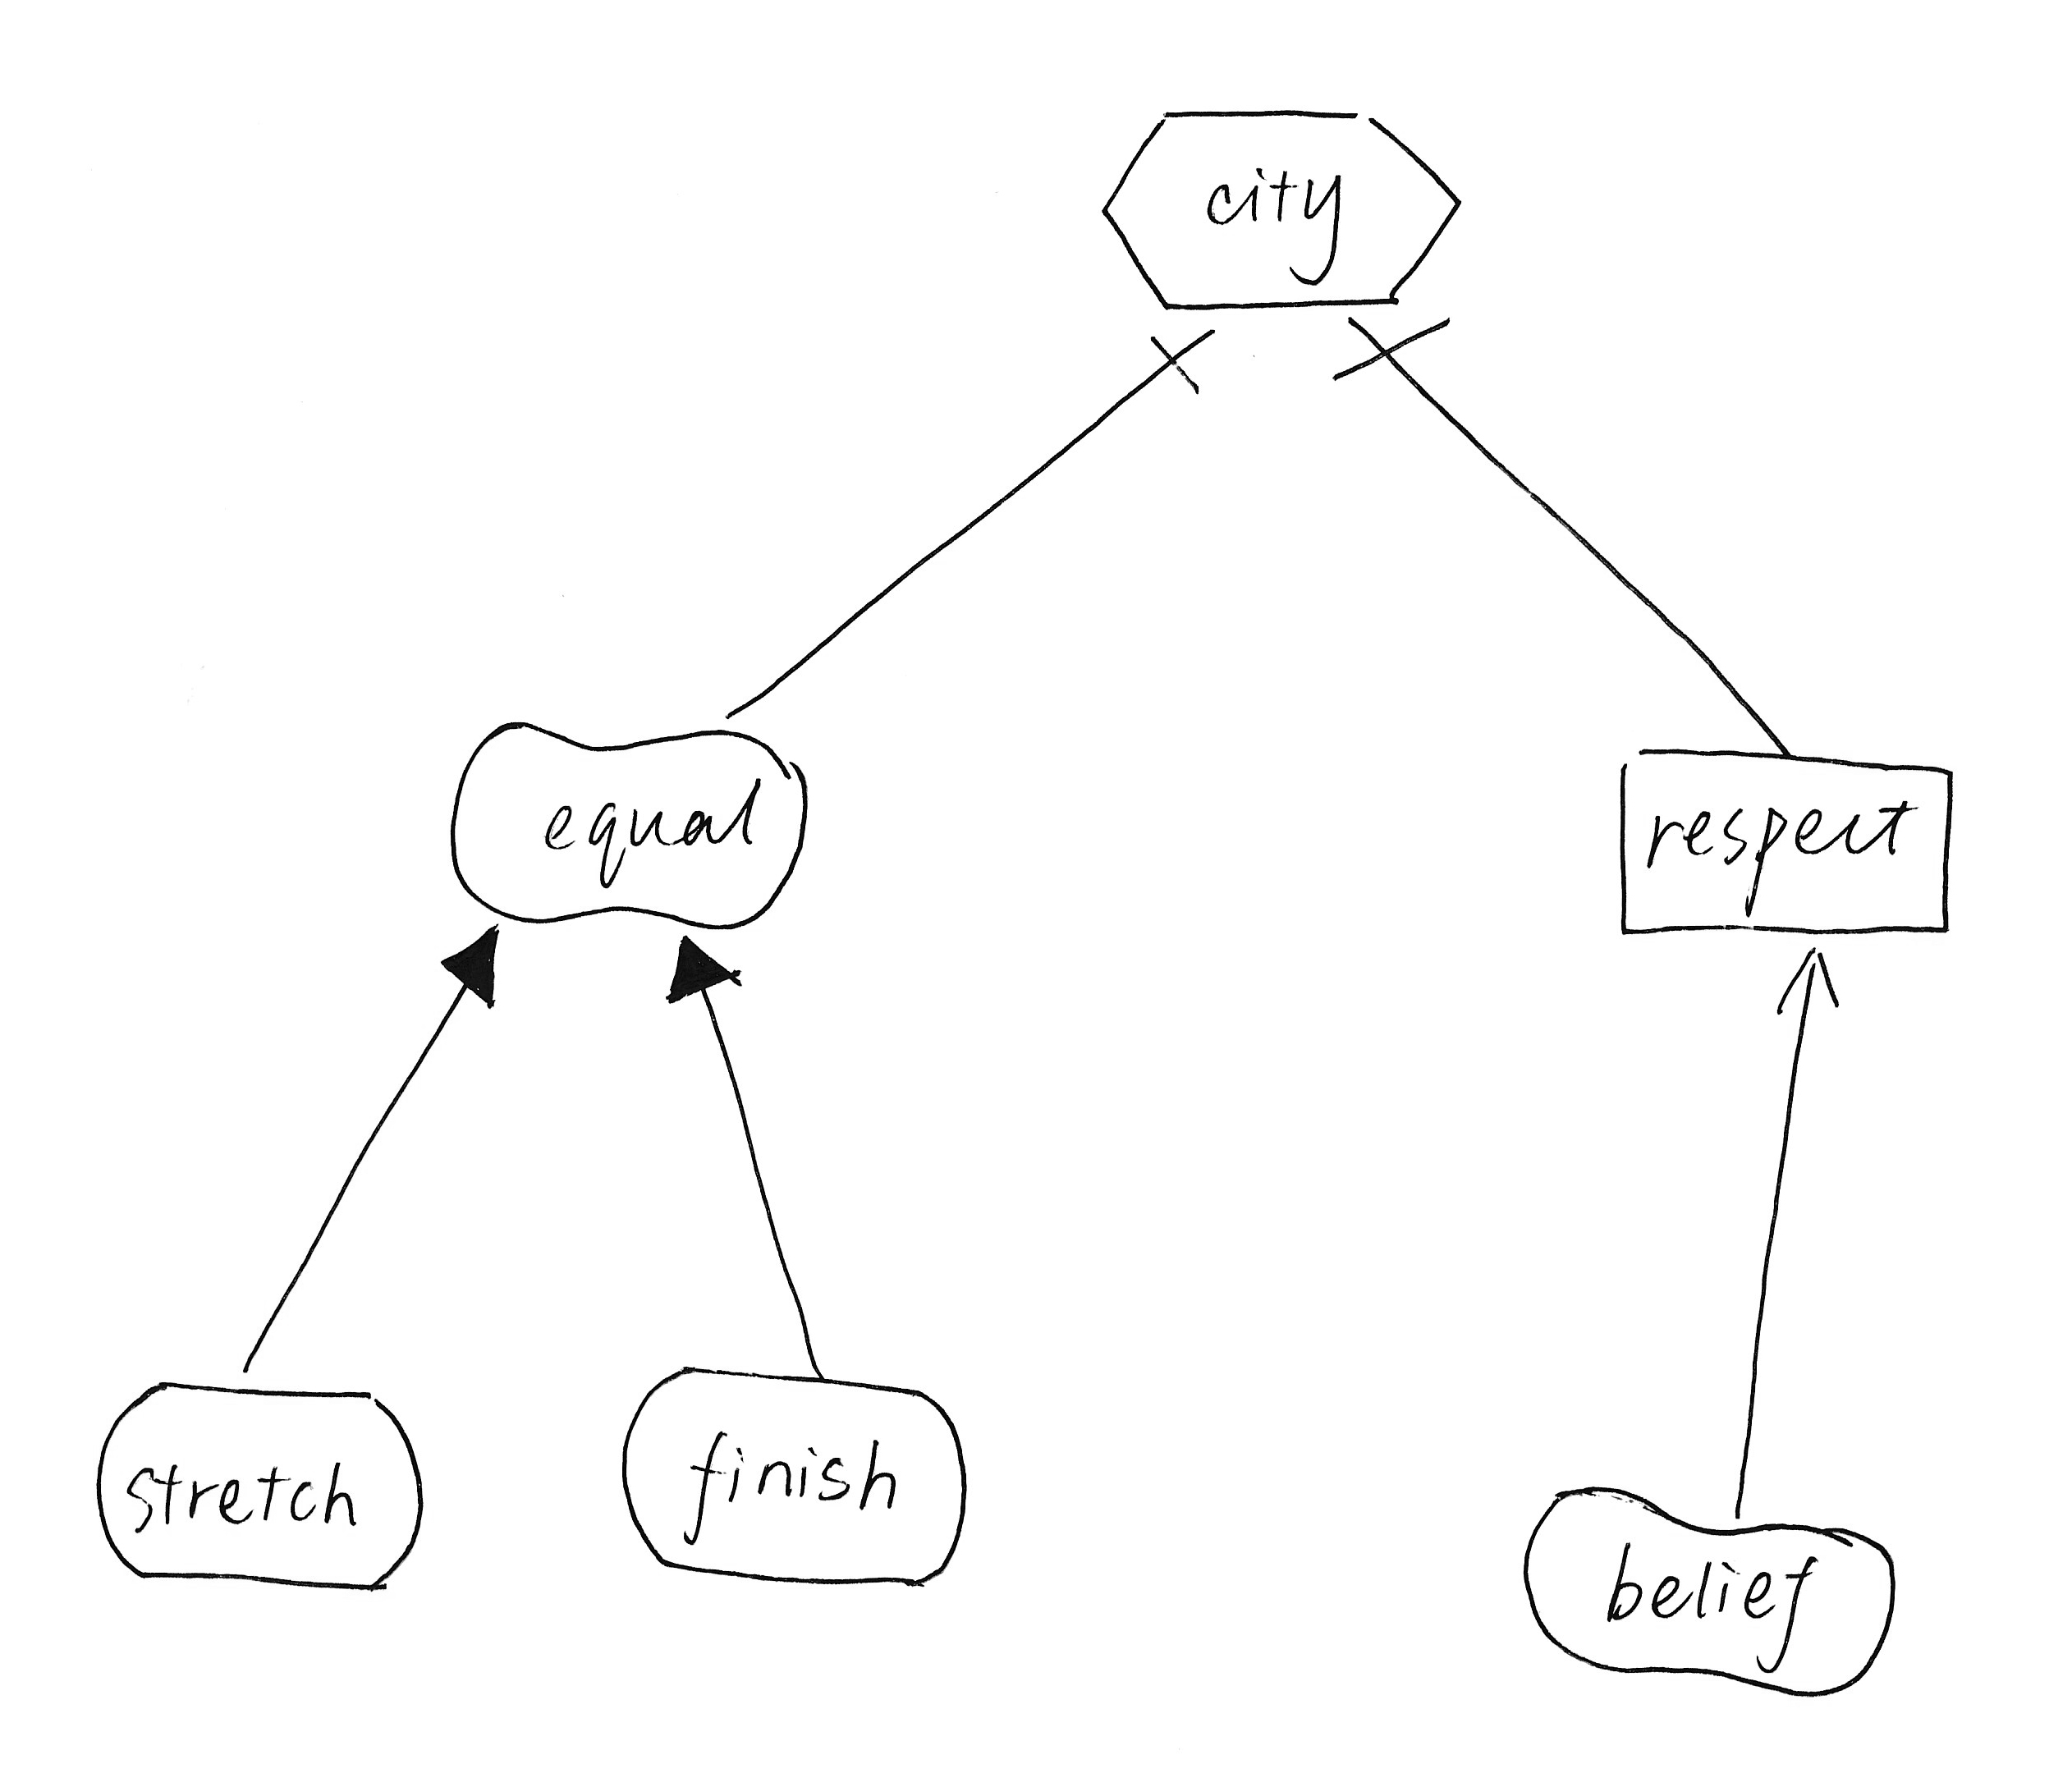and: (1319, 306, 1469, 406), (1134, 310, 1229, 422)
arrow: (1766, 939, 1854, 1029)
goal: (603, 1349, 987, 1601), (74, 1356, 449, 1602)
or: (419, 904, 538, 1032), (651, 923, 753, 1029)
quality: (1511, 1463, 1922, 1717), (431, 702, 827, 941)
resource: (1588, 728, 1972, 957)
task: (1085, 84, 1476, 327)
